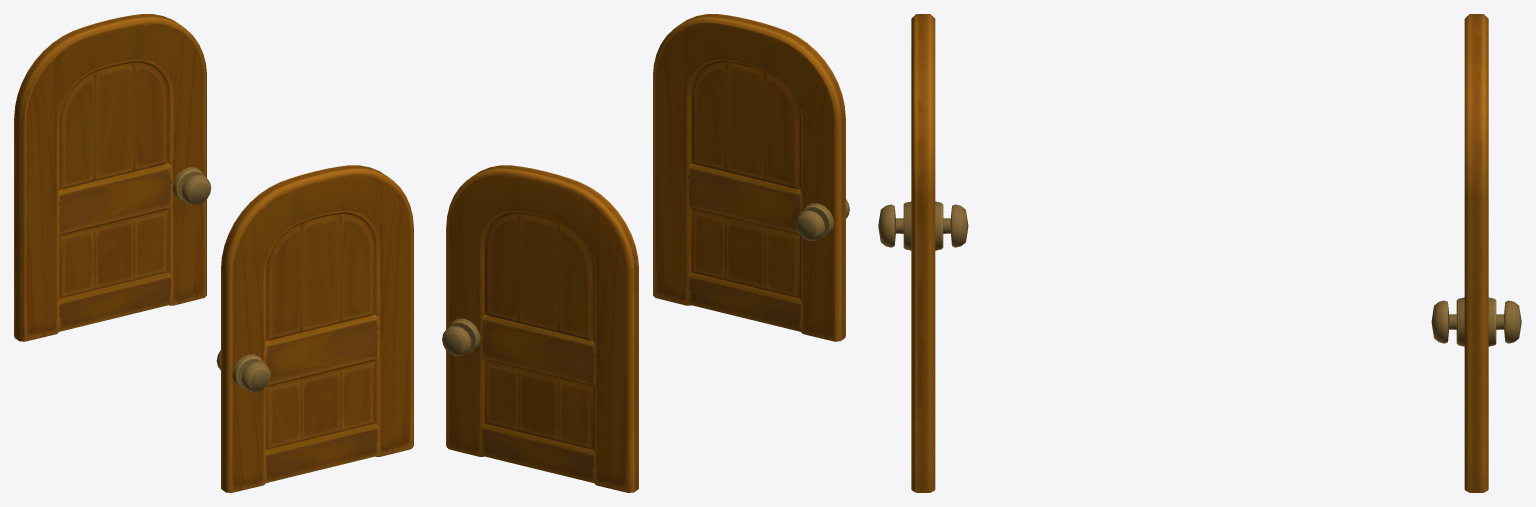
File: chalet-door.glb
3 views of the same model, side by side, from view 1: azimuth 30°, elevation 25°; view 2: azimuth 150°, elevation 25°; view 3: azimuth 270°, elevation 25° (orthographic). The views are drawn at different scales.
Parts seen in each view (by area): view 1: pCube48__mDoorR; view 2: pCube48__mDoorR; view 3: pCube48__mDoorR.
Part boxes in pixels (x1,y1,x2,y2): pCube48__mDoorR: (14, 14, 413, 492); pCube48__mDoorR: (442, 14, 849, 492); pCube48__mDoorR: (878, 14, 1521, 492).
Bounding box in the file's own units: 12 × 18 × 26.64.
Materials: 1 (1 with a texture image).
